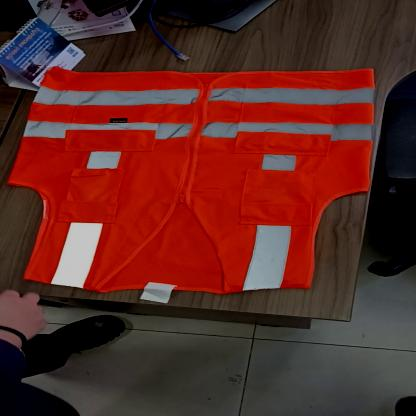colete: (5, 66, 372, 291)
